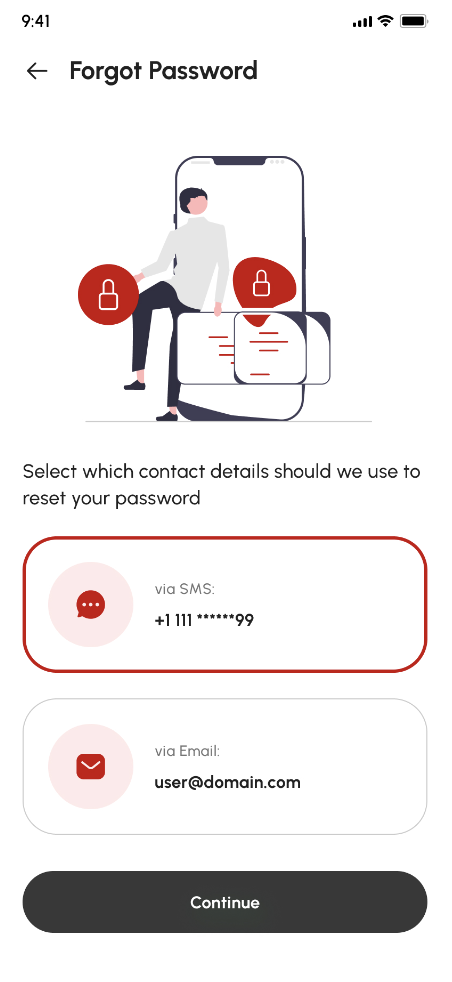IconButton: (24, 57, 50, 84)
